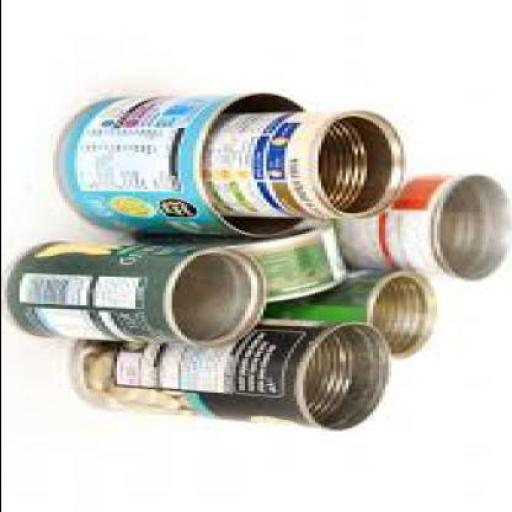metal: (55, 94, 314, 241), (67, 322, 393, 434), (9, 241, 268, 350), (204, 113, 409, 222), (322, 175, 511, 284), (136, 215, 350, 306), (262, 271, 436, 360)
